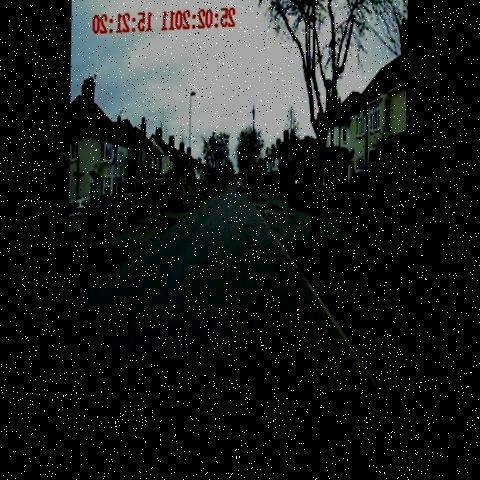pothole: (260, 322, 291, 360), (266, 356, 293, 398), (201, 248, 221, 285), (237, 213, 261, 241), (299, 377, 320, 408), (222, 211, 237, 234)
